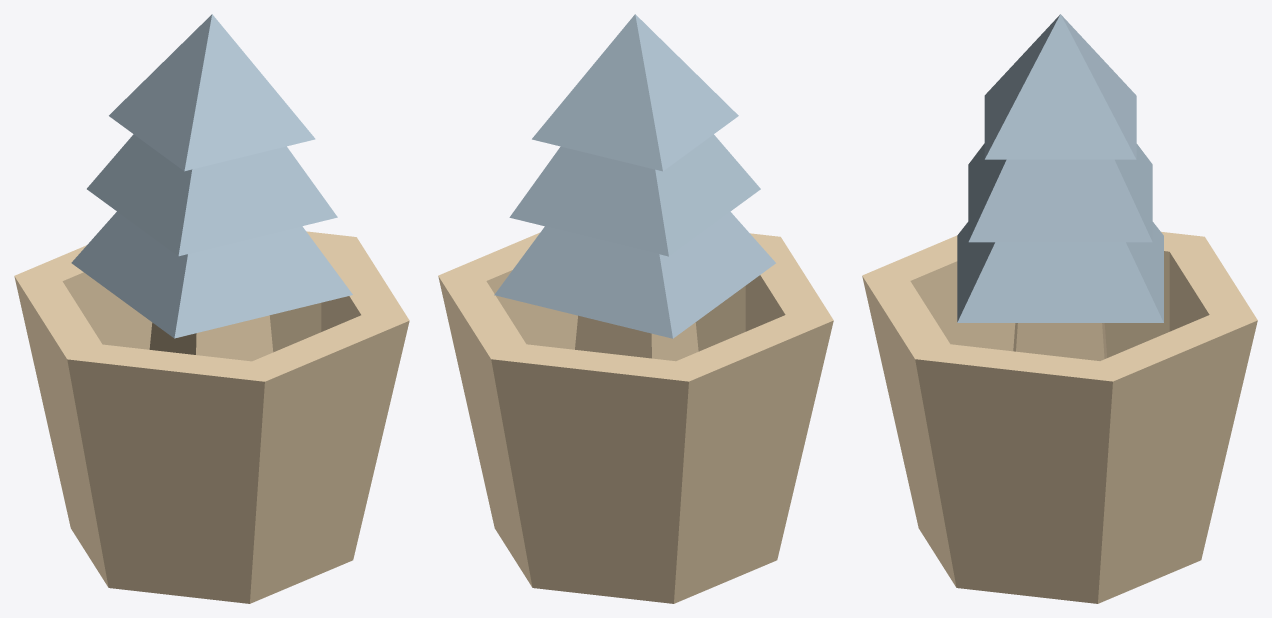
File: plantSmall1.glb
The picture shows the model from 3 angles, left to right: view 1: azimuth 30°, elevation 25°; view 2: azimuth 150°, elevation 25°; view 3: azimuth 270°, elevation 25°; orthographic projection.
Parts seen in each view (by area): view 1: plantSmall1(Clone); view 2: plantSmall1(Clone); view 3: plantSmall1(Clone).
Part boxes in pixels (box(x1,y1,x2,y2)): plantSmall1(Clone): box(14, 14, 409, 603); plantSmall1(Clone): box(438, 14, 833, 603); plantSmall1(Clone): box(862, 14, 1257, 603).
Size of the model in its own units: 0.0947 by 0.14 by 0.0947.
